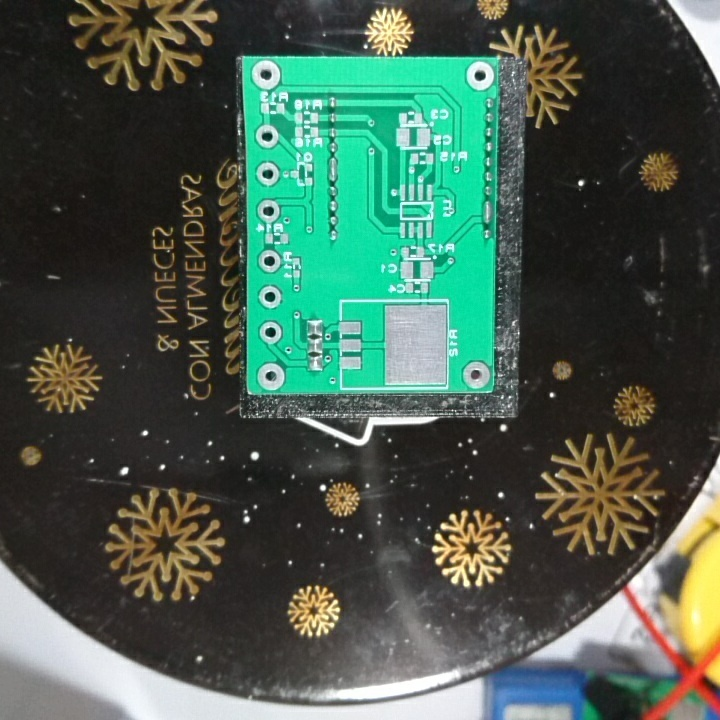F: (247, 58, 284, 91), (464, 58, 496, 94), (459, 358, 494, 389), (255, 361, 288, 390), (255, 283, 285, 314), (255, 247, 284, 276), (255, 318, 285, 345), (253, 160, 281, 188), (252, 124, 281, 151), (253, 198, 281, 225)
P: (324, 154, 341, 183), (479, 198, 494, 226)
